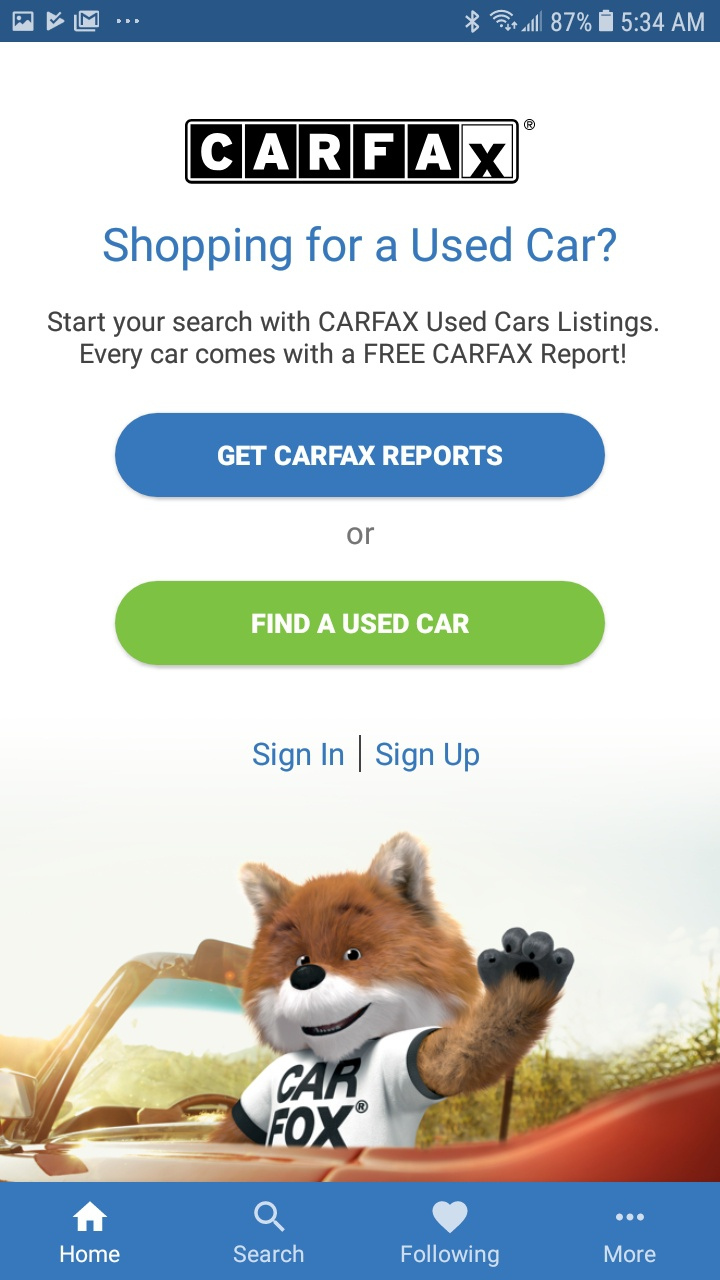Icon: (432, 1200, 469, 1234), (73, 1200, 108, 1232), (254, 1200, 286, 1233), (615, 1212, 645, 1222)
Image: (1, 829, 720, 1182), (185, 119, 536, 185)
Text: (48, 310, 659, 370), (103, 224, 615, 270), (376, 741, 480, 773), (253, 742, 345, 773), (401, 1243, 500, 1268), (234, 1244, 305, 1263), (60, 1244, 121, 1263), (604, 1244, 657, 1263), (345, 525, 376, 545)
TextButton: (115, 413, 606, 498), (115, 581, 606, 666)
UpperTaskBar: (1, 1, 720, 43)
